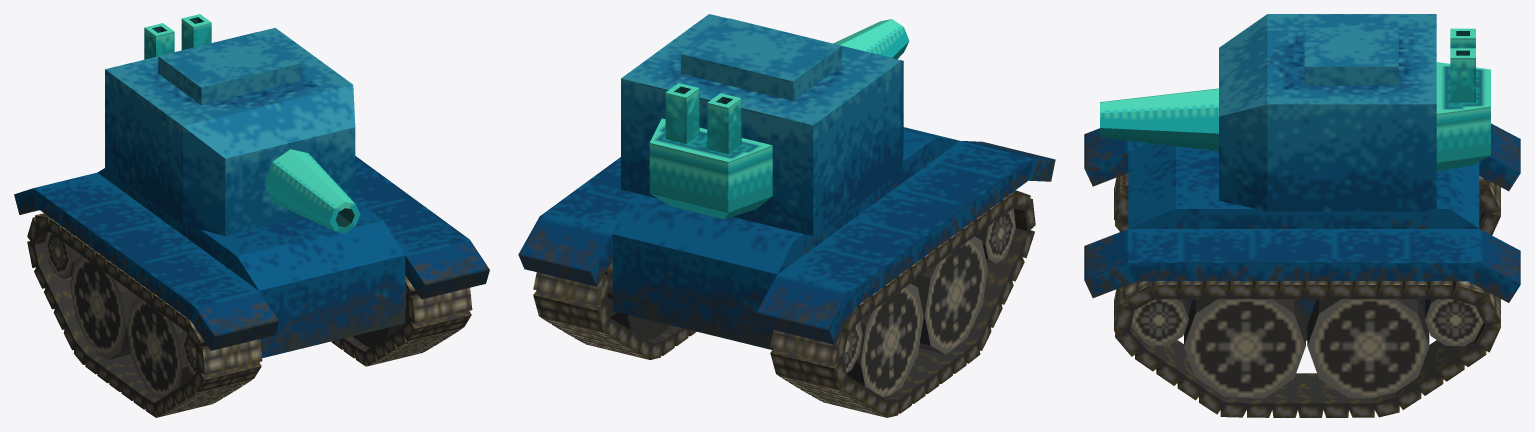
File: TANKE_MK01.fbx
The picture shows the model from 3 angles, left to right: view 1: azimuth 30°, elevation 25°; view 2: azimuth 150°, elevation 25°; view 3: azimuth 270°, elevation 25°; orthographic projection. The views are drawn at different scales.
Visible parts, largest first — view 1: tanque_torre, aletas, barcaza, oruga.001, ruedas, oruga, tanque_cañon; view 2: tanque_torre, aletas, barcaza, oruga.001, ruedas, oruga, tanque_cañon; view 3: tanque_torre, aletas, ruedas, oruga, barcaza, tanque_cañon, oruga.001.
Boxes of the visible parts, x1,y1,x2,y2 form: tanque_torre: [105, 14, 355, 235]; aletas: [14, 156, 489, 350]; barcaza: [97, 168, 405, 358]; oruga.001: [27, 213, 262, 417]; ruedas: [44, 231, 407, 398]; oruga: [331, 275, 472, 366]; tanque_cañon: [264, 149, 360, 233]; tanque_torre: [621, 14, 903, 236]; aletas: [518, 141, 1055, 344]; barcaza: [612, 127, 959, 349]; oruga.001: [770, 190, 1035, 417]; ruedas: [606, 208, 1015, 396]; oruga: [533, 260, 696, 359]; tanque_cañon: [833, 19, 909, 59]; tanque_torre: [1219, 14, 1490, 211]; aletas: [1084, 123, 1520, 302]; ruedas: [1131, 203, 1483, 398]; oruga: [1114, 281, 1500, 417]; barcaza: [1128, 143, 1479, 340]; tanque_cañon: [1100, 88, 1218, 151]; oruga.001: [1114, 173, 1500, 235].
Size of the model in its own units: 86.7 by 85.03 by 110.
Materials: 6 (6 with a texture image).
